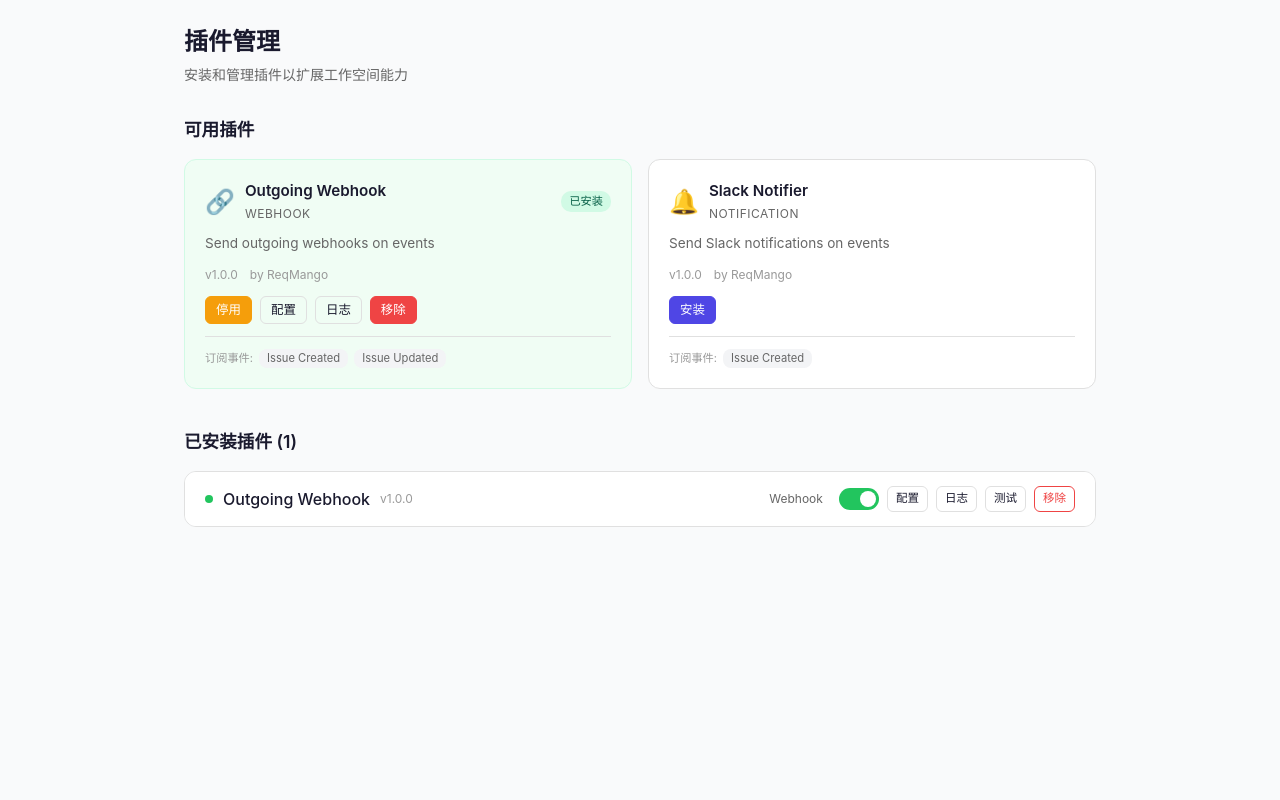
Test: Logs modal › should open logs modal on Logs button click
The image size is (1280, 800).
Step 1. Click the button with class "btn-outline" below "Send outgoing webhooks on events" → point(338, 310), box x1=315 y1=296 x2=362 y2=324
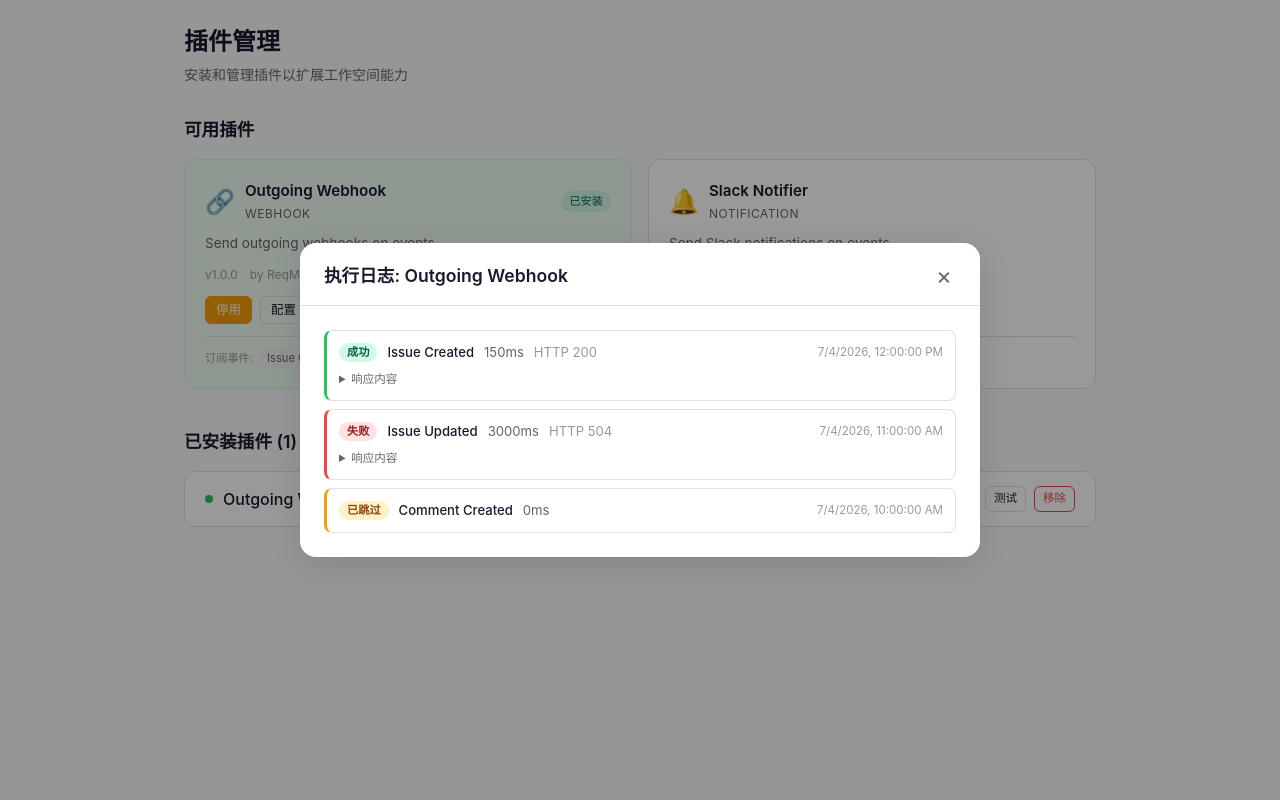
Expected: the heading "执行日志: Outgoing Webhook" is shown, x1=324 y1=262 x2=568 y2=289
